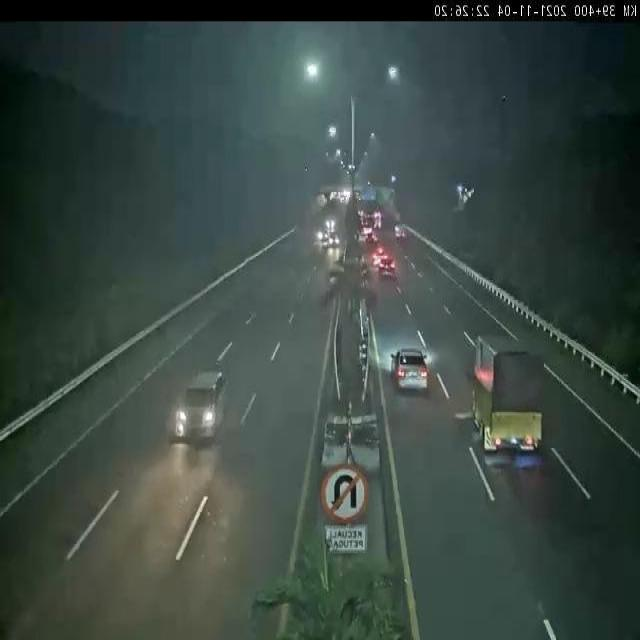Car: (169, 362, 233, 450), (389, 340, 434, 395), (376, 258, 396, 280), (374, 247, 388, 264), (317, 225, 330, 243), (328, 230, 340, 248)
Truck: (468, 313, 548, 482)
